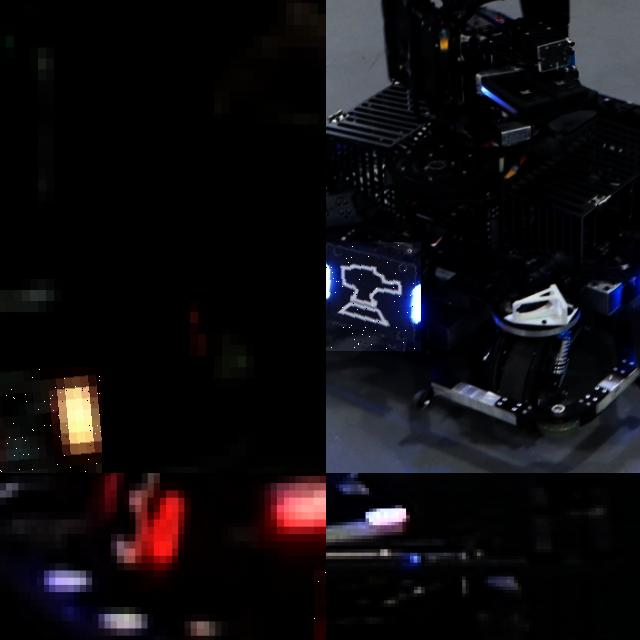Bs: (326, 242, 420, 350)
R3: (86, 473, 197, 585)
Rs: (0, 367, 102, 473)
